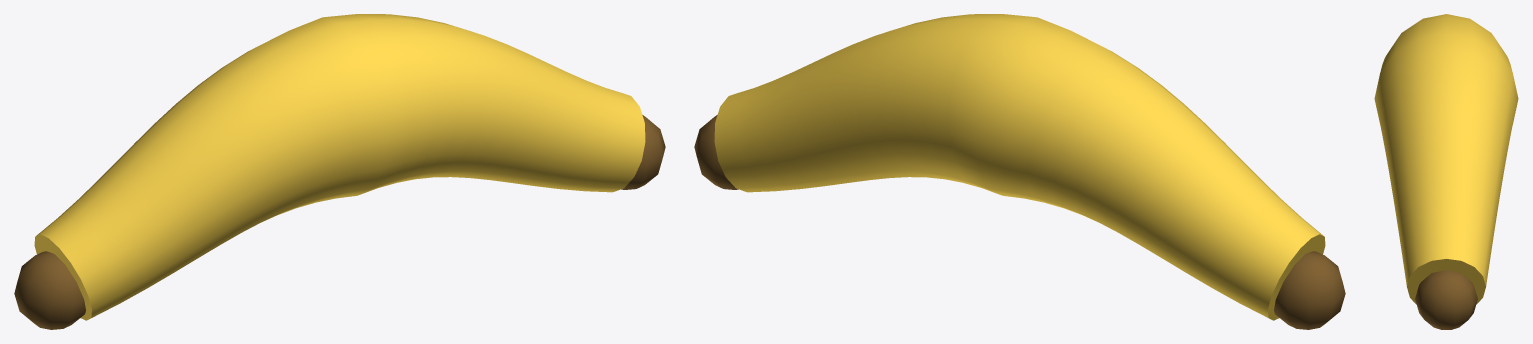
Rendered from banana.glb.
3 views of the same model, side by side, from view 1: azimuth 30°, elevation 25°; view 2: azimuth 150°, elevation 25°; view 3: azimuth 270°, elevation 25° (orthographic). The views are drawn at different scales.
Visible parts, largest first — view 1: body, tip1, tip2; view 2: body, tip1, tip2; view 3: body, tip2.
Part boxes in pixels (x1=…): body: x1=34, y1=14, x2=645, y2=320; tip1: x1=14, y1=251, x2=85, y2=329; tip2: x1=621, y1=115, x2=665, y2=189; body: x1=714, y1=14, x2=1325, y2=320; tip1: x1=1274, y1=251, x2=1345, y2=329; tip2: x1=694, y1=115, x2=738, y2=189; body: x1=1374, y1=14, x2=1518, y2=304; tip2: x1=1415, y1=270, x2=1477, y2=329.
Bounding box in the file's own units: 0.6466 × 0.225 × 0.16.
